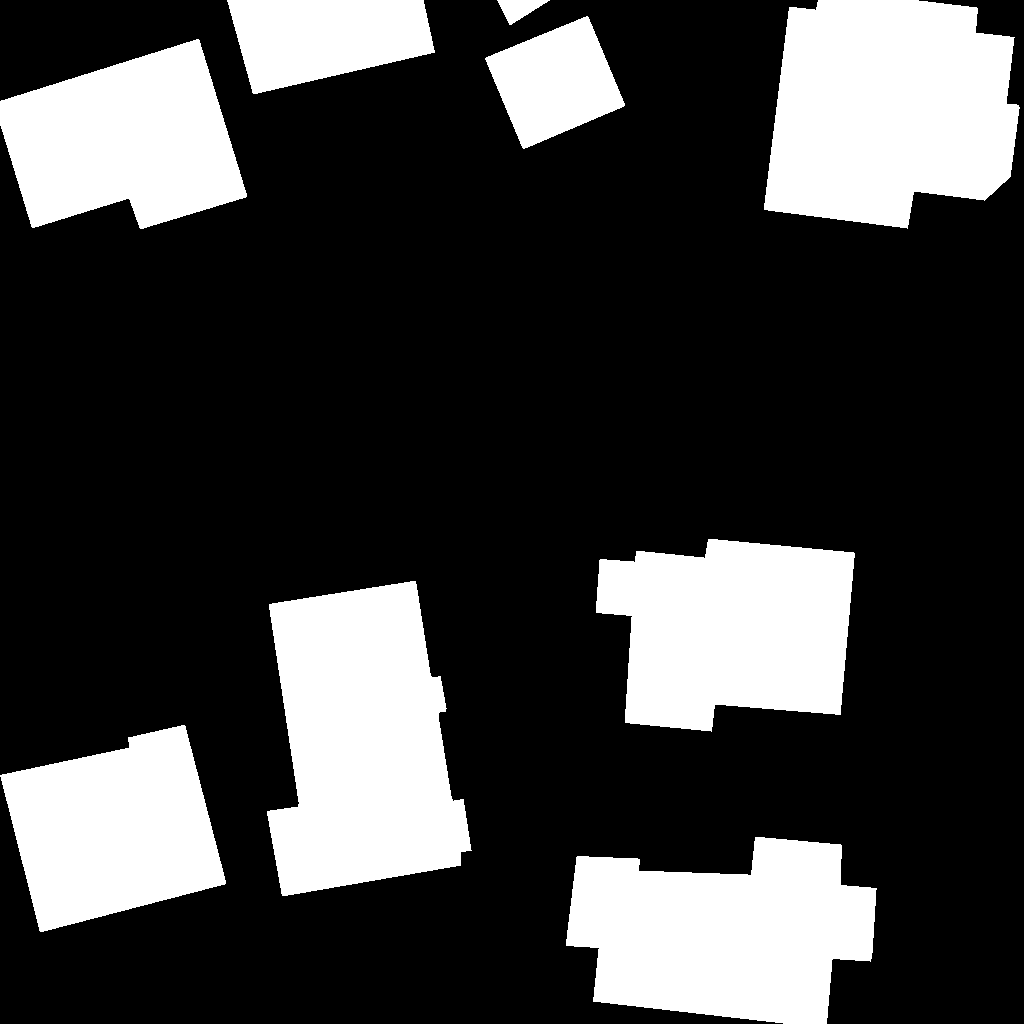building: (267, 581, 472, 897), (764, 0, 1020, 229), (566, 837, 877, 1024), (596, 539, 856, 732), (0, 39, 248, 230), (0, 725, 227, 933), (227, 0, 436, 95), (485, 16, 626, 150), (497, 0, 551, 26)
